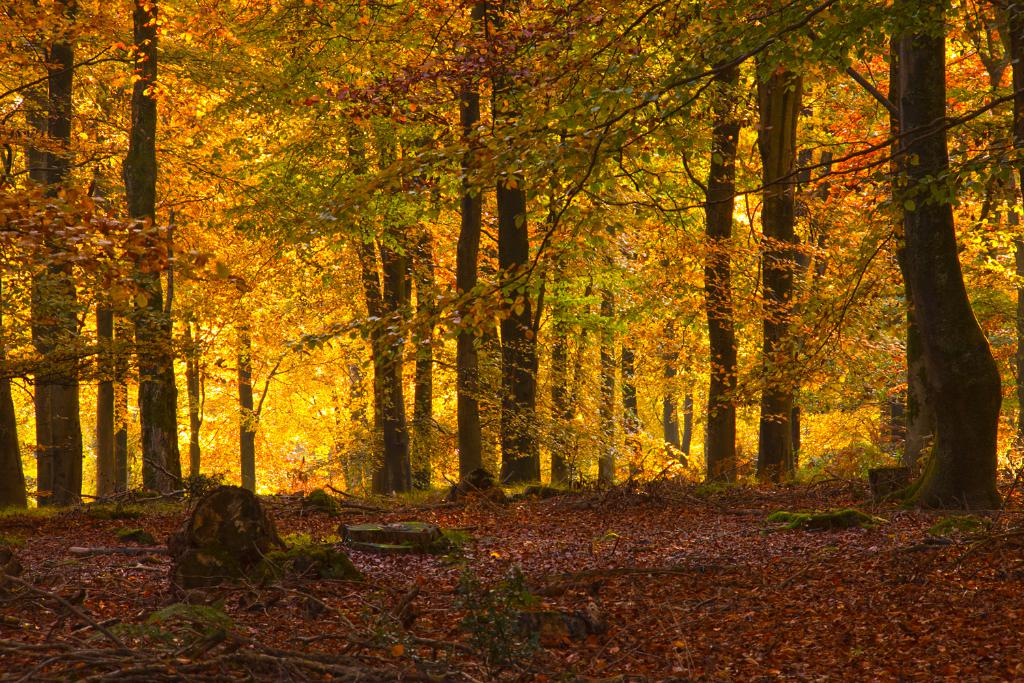Tree: (0, 0, 1023, 514)
